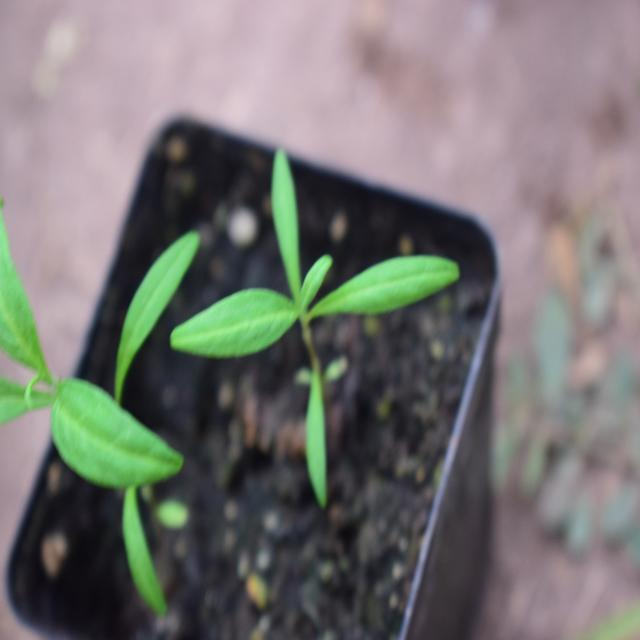white_smart_weed: (177, 170, 453, 493), (0, 210, 208, 590)
